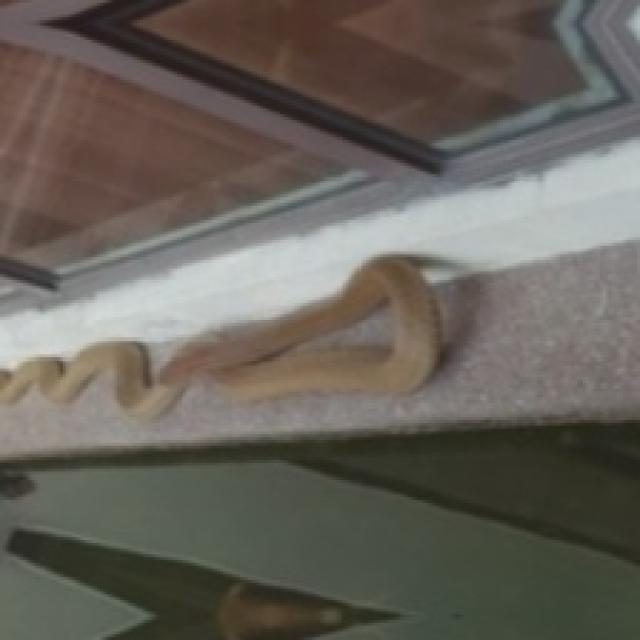king cobra: (0, 254, 449, 417), (9, 529, 394, 637)
